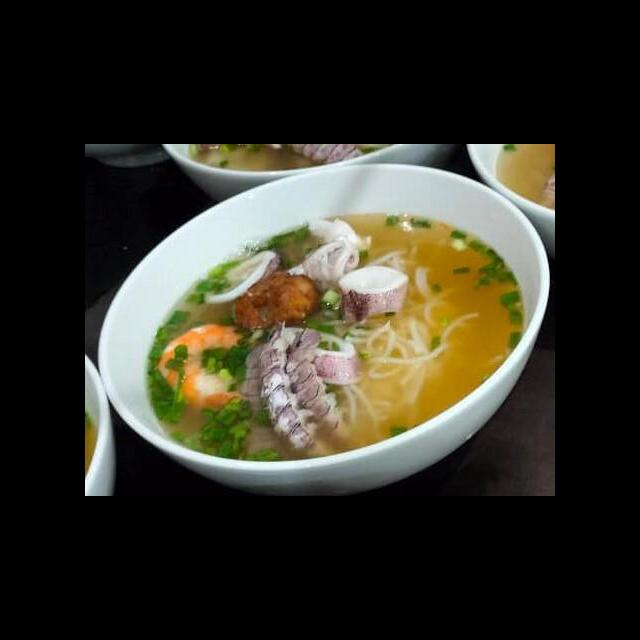bun: (332, 299, 482, 432)
bun hai san: (112, 183, 545, 484)
muc: (289, 214, 377, 289), (200, 245, 286, 307), (334, 261, 412, 329)
tom: (150, 319, 269, 414)
tom tit: (258, 318, 338, 461), (284, 323, 354, 444)
